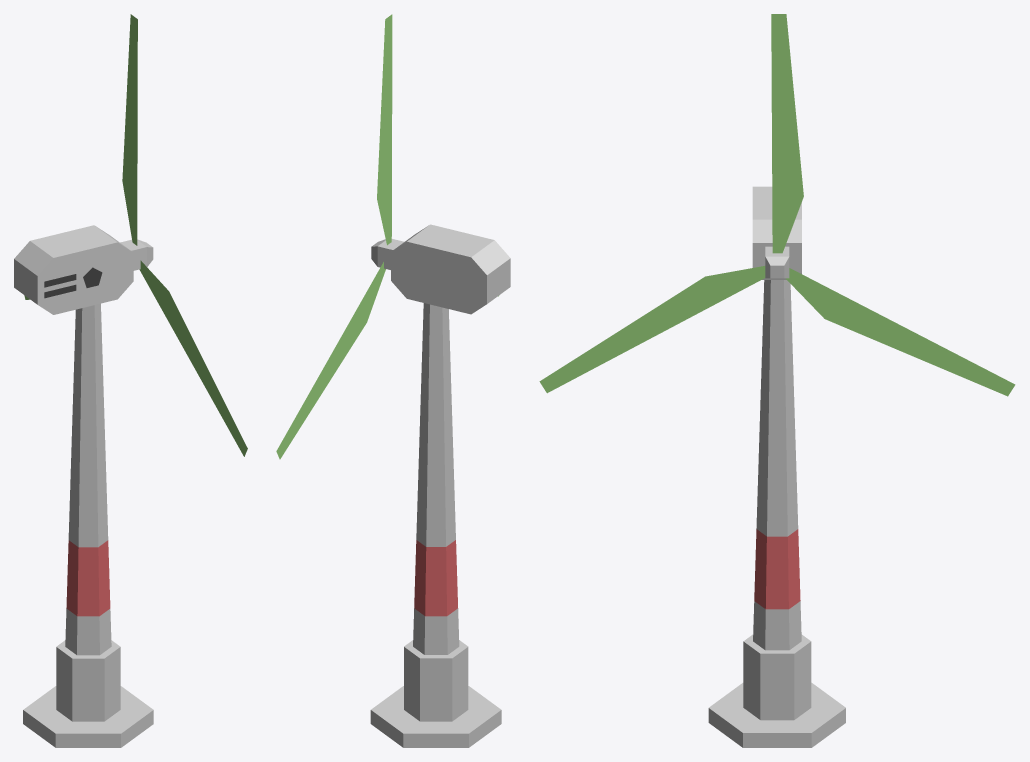
The model's file is wind_turbine_0.fbx.
3 renders of one model, left to right at view 1: azimuth 30°, elevation 25°; view 2: azimuth 150°, elevation 25°; view 3: azimuth 270°, elevation 25°, orthographic. The views are drawn at different scales.
Visible parts, largest first — view 1: Cylinder; view 2: Cylinder; view 3: Cylinder.
Boxes of the visible parts, x1,y1,x2,y2 form: Cylinder: (14,14,247,747); Cylinder: (276,14,510,747); Cylinder: (539,14,1015,747).
Size of the model in its own units: 266 by 1426 by 840.
